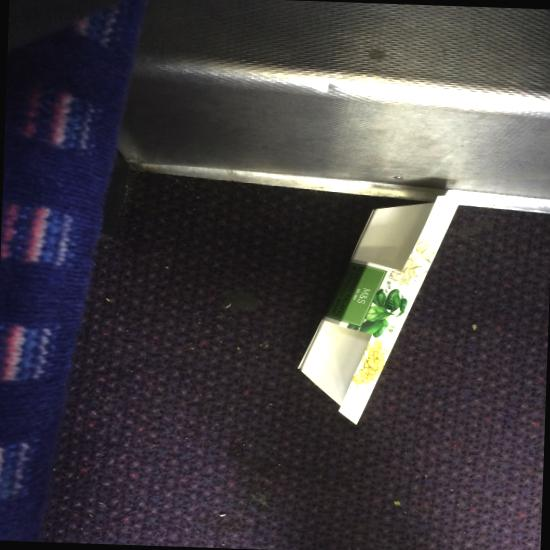Meal carton: (298, 195, 463, 425)
